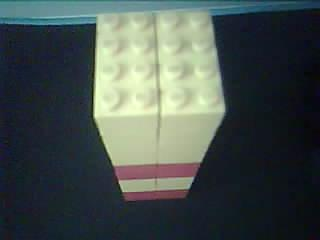lego: (93, 9, 225, 202)
